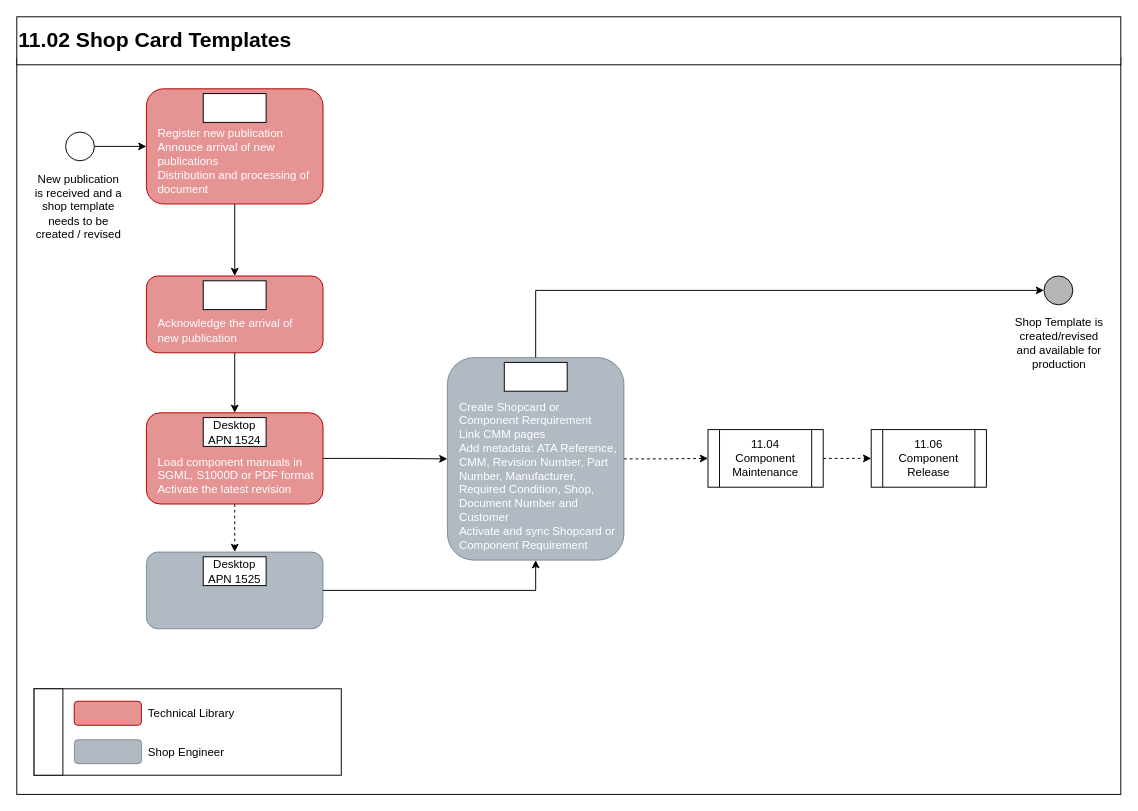
Image size: 1138x811. Some labels were removed from this diagram. Here are the shapes that lost their labels. From the top down, the box of each, then its label:
(202, 93, 266, 122): Desktop APN 565
(202, 280, 266, 310): Desktop APN 685
(503, 361, 567, 391): Desktop APN 1848
(145, 551, 323, 629): Review CMM content and print when required.
(33, 688, 63, 775): LEGEND
